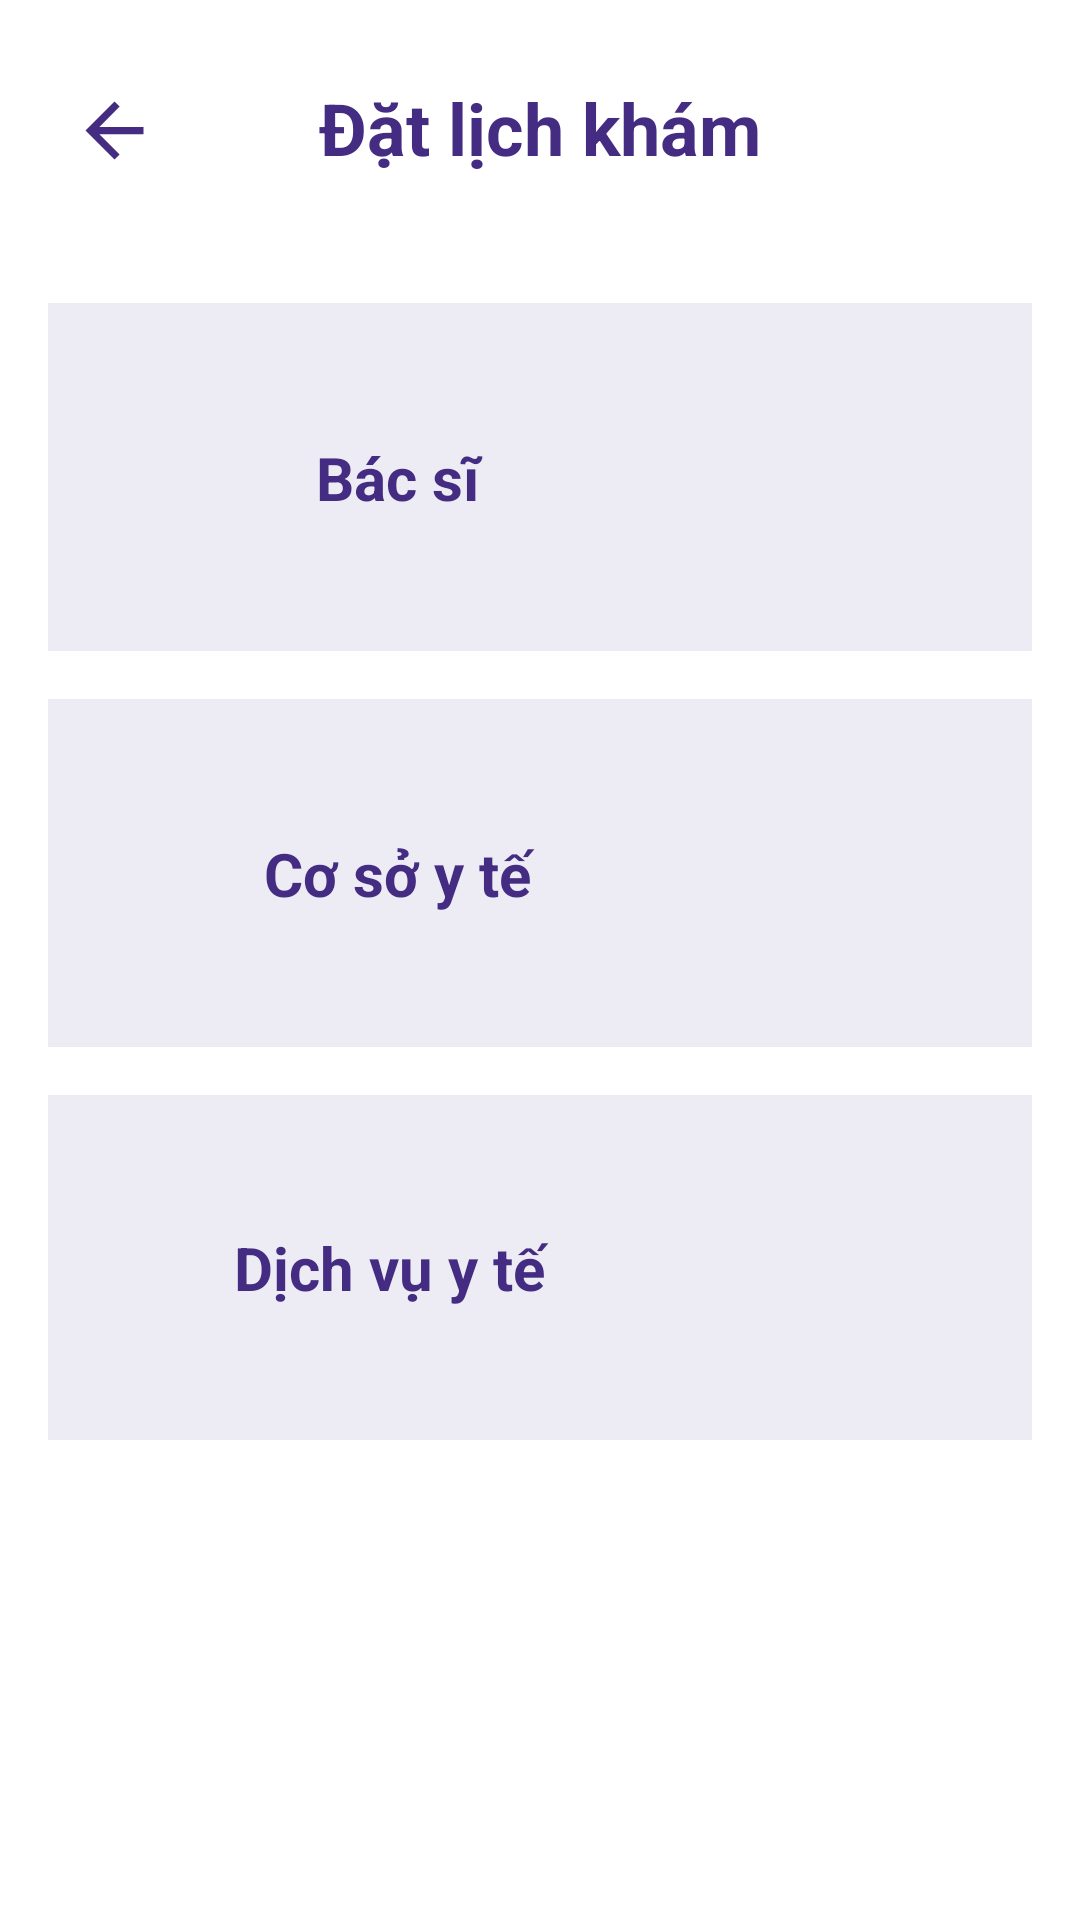

Locate icon controls on the screen. Image size 1080*1920, boxes as (x1, y1, x2, y2).
arrow back: (85, 101, 144, 160)
